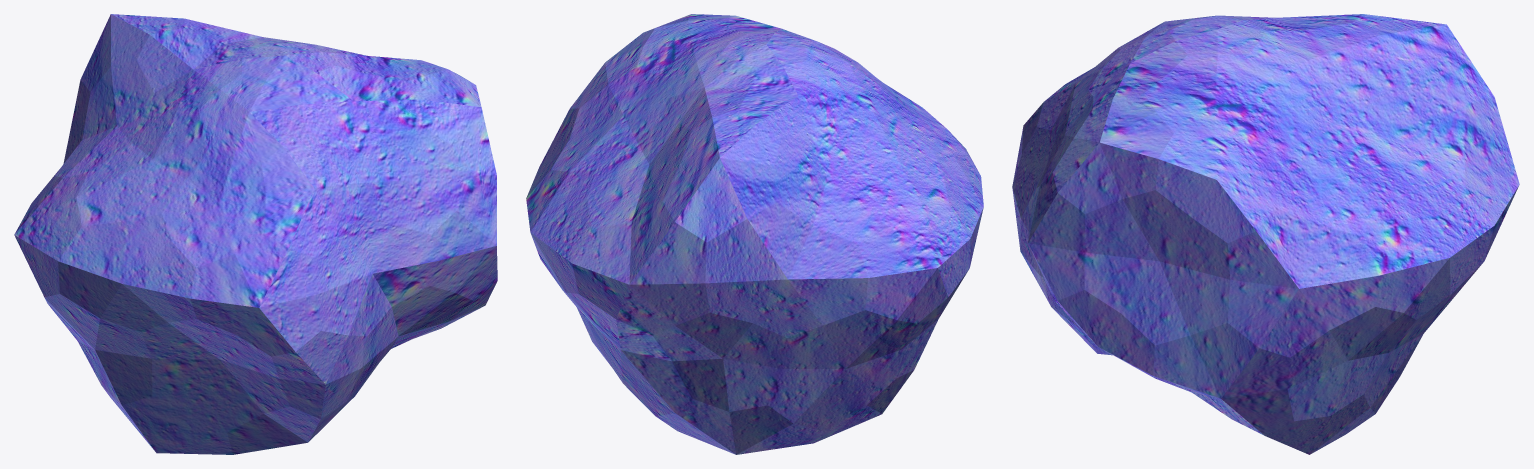
The model's file is smallasteroid1_LOD3.fbx.
3 renders of one model, left to right at view 1: azimuth 30°, elevation 25°; view 2: azimuth 150°, elevation 25°; view 3: azimuth 270°, elevation 25°, orthographic. The views are drawn at different scales.
Parts seen in each view (by area): view 1: Icosphere; view 2: Icosphere; view 3: Icosphere.
Part boxes in pixels (<box>): Icosphere: <box>14,14,497,454</box>; Icosphere: <box>526,14,983,454</box>; Icosphere: <box>1012,14,1519,454</box>.
Size of the model in its own units: 284 by 238 by 282.
